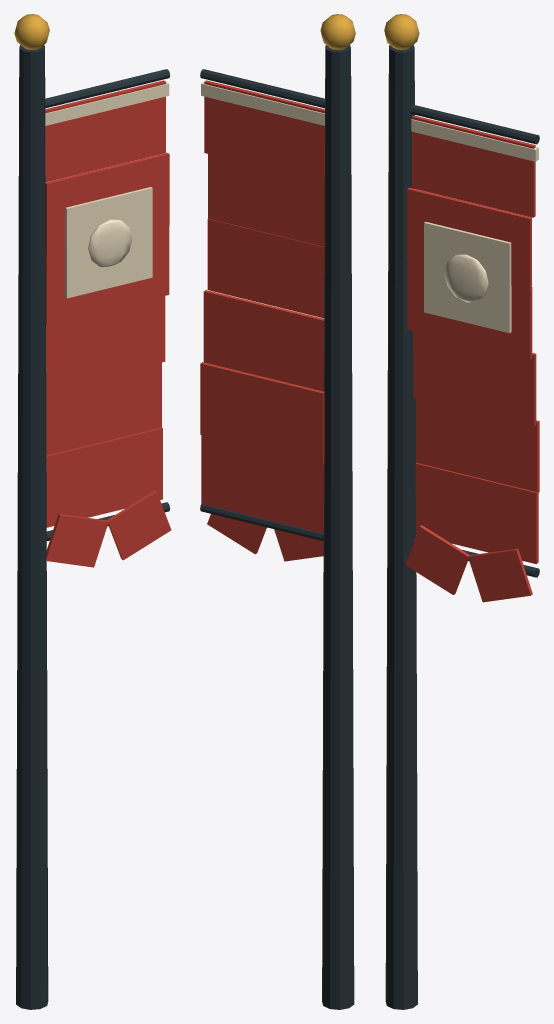
The model's file is rt_banner_crimson.glb.
The picture shows the model from 3 angles, left to right: view 1: azimuth 30°, elevation 25°; view 2: azimuth 150°, elevation 25°; view 3: azimuth 330°, elevation 25°; orthographic projection.
Parts seen in each view (by area): view 1: rt_banner_crimson_body; view 2: rt_banner_crimson_body; view 3: rt_banner_crimson_body.
Boxes of the visible parts, x1=… form: rt_banner_crimson_body: x1=14, y1=14, x2=171, y2=1009; rt_banner_crimson_body: x1=200, y1=14, x2=355, y2=1009; rt_banner_crimson_body: x1=384, y1=14, x2=539, y2=1009.
Size of the model in its own units: 1.05 by 6.61 by 0.22.
